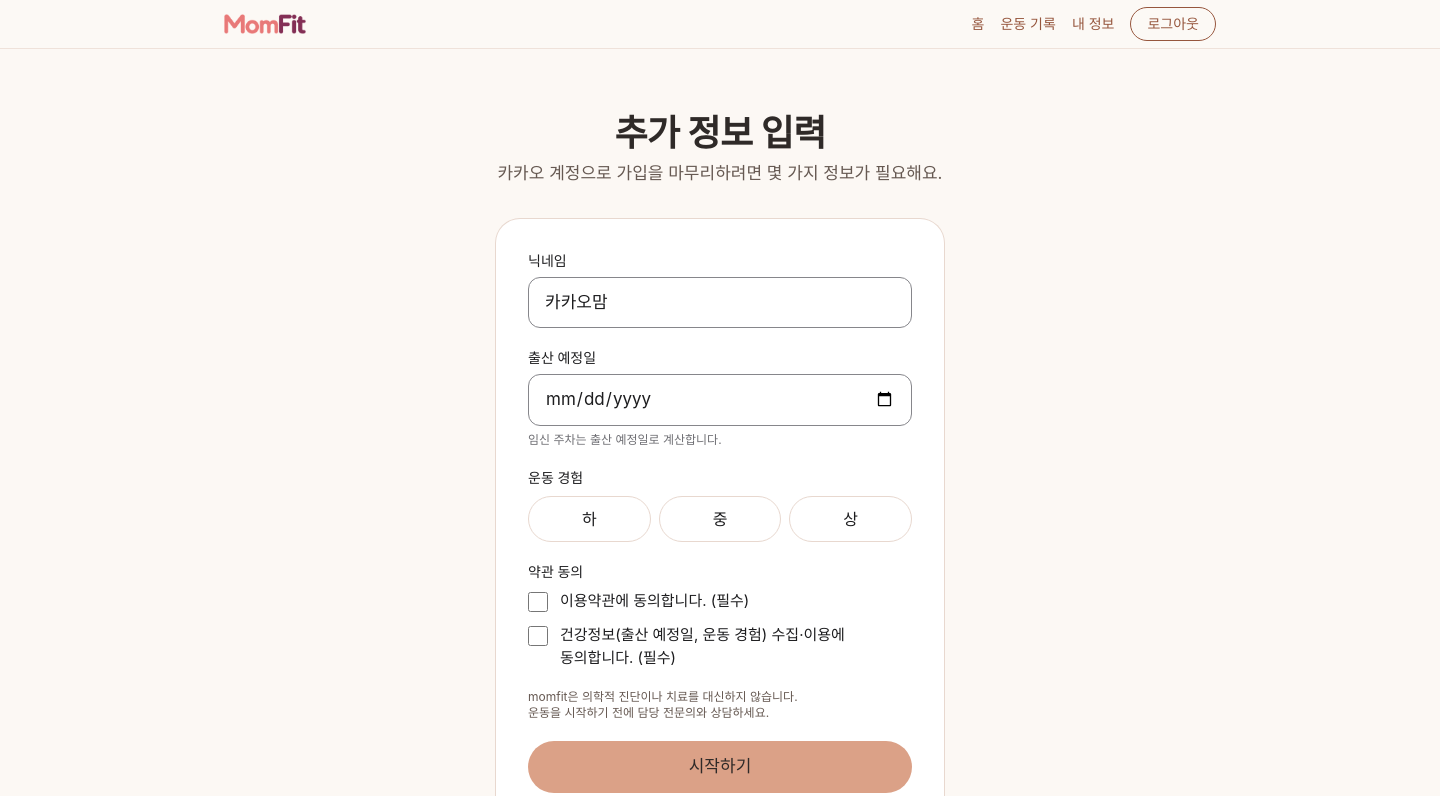
Test: 온보딩 화면 › 입력을 고치면 해당 항목의 안내가 사라진다
Click the button "시작하기": (720, 767) [528,741,912,792]
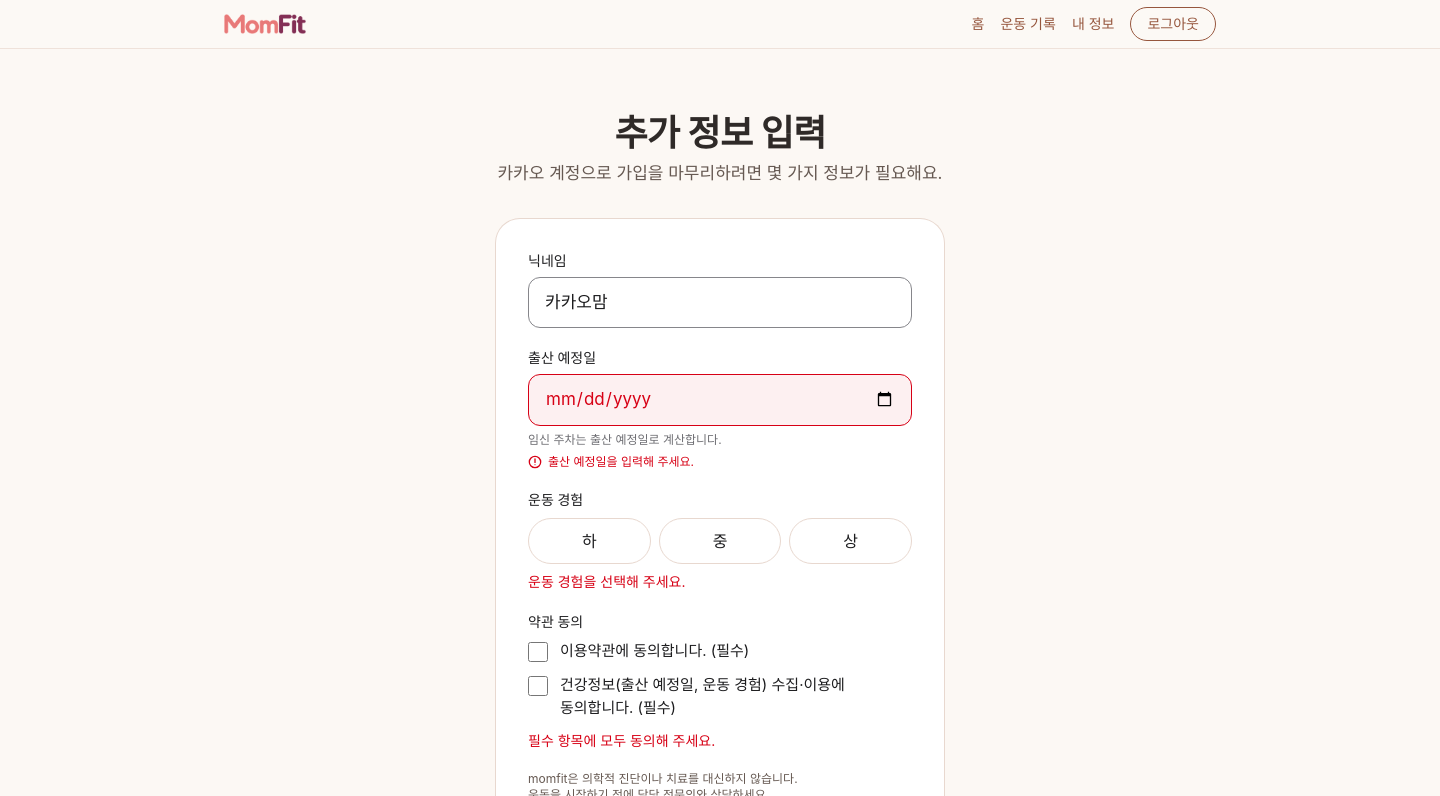
Now the text "운동 경험을 선택해 주세요." is shown, box [528,572,686,590]
Click the radio button labelled "하": (589, 540) [528,518,651,564]
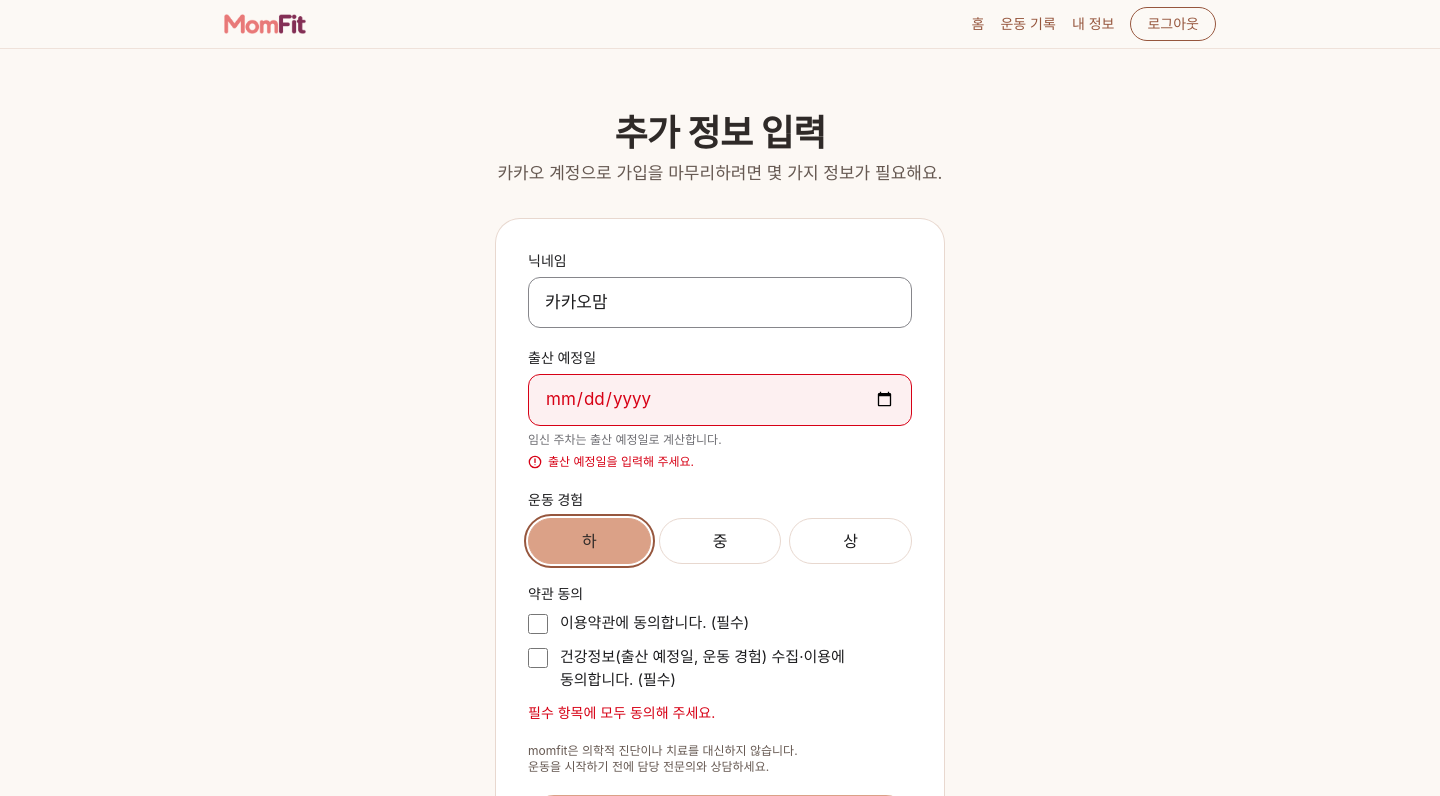
Now the text "운동 경험을 선택해 주세요." is gone
